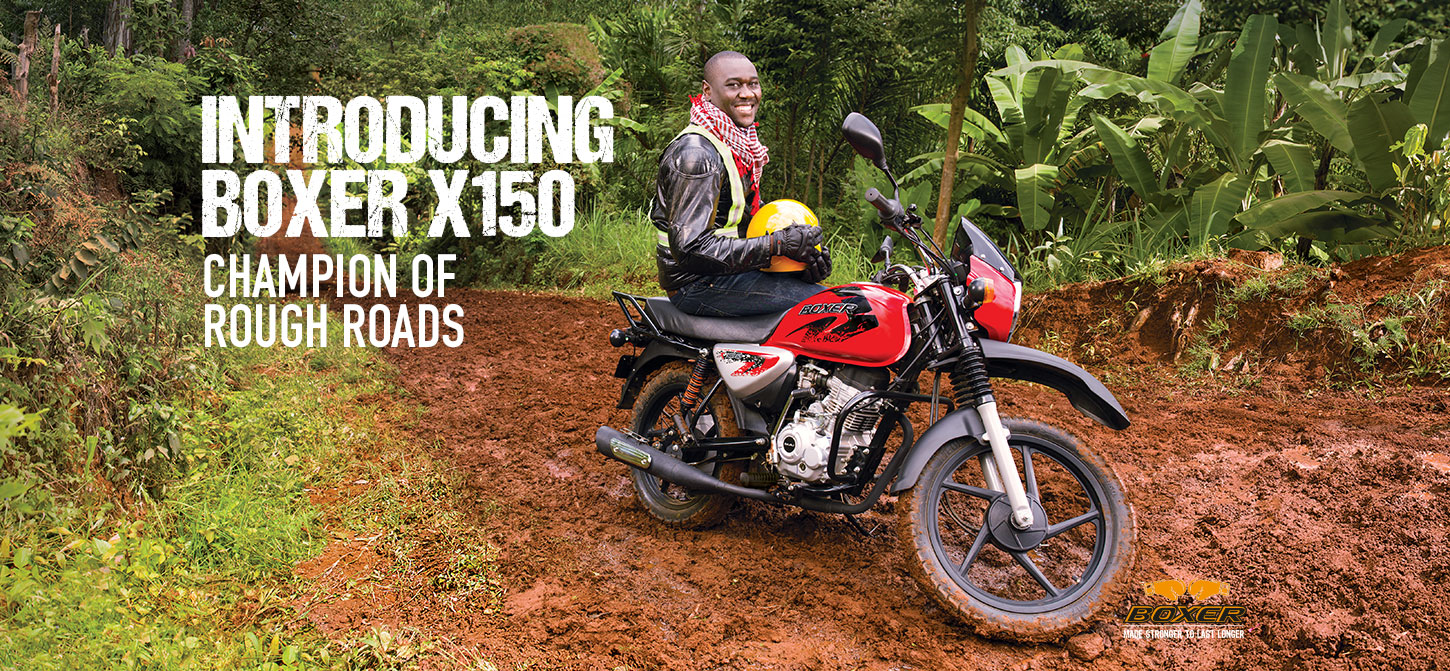motorbike: (585, 188, 1128, 641)
